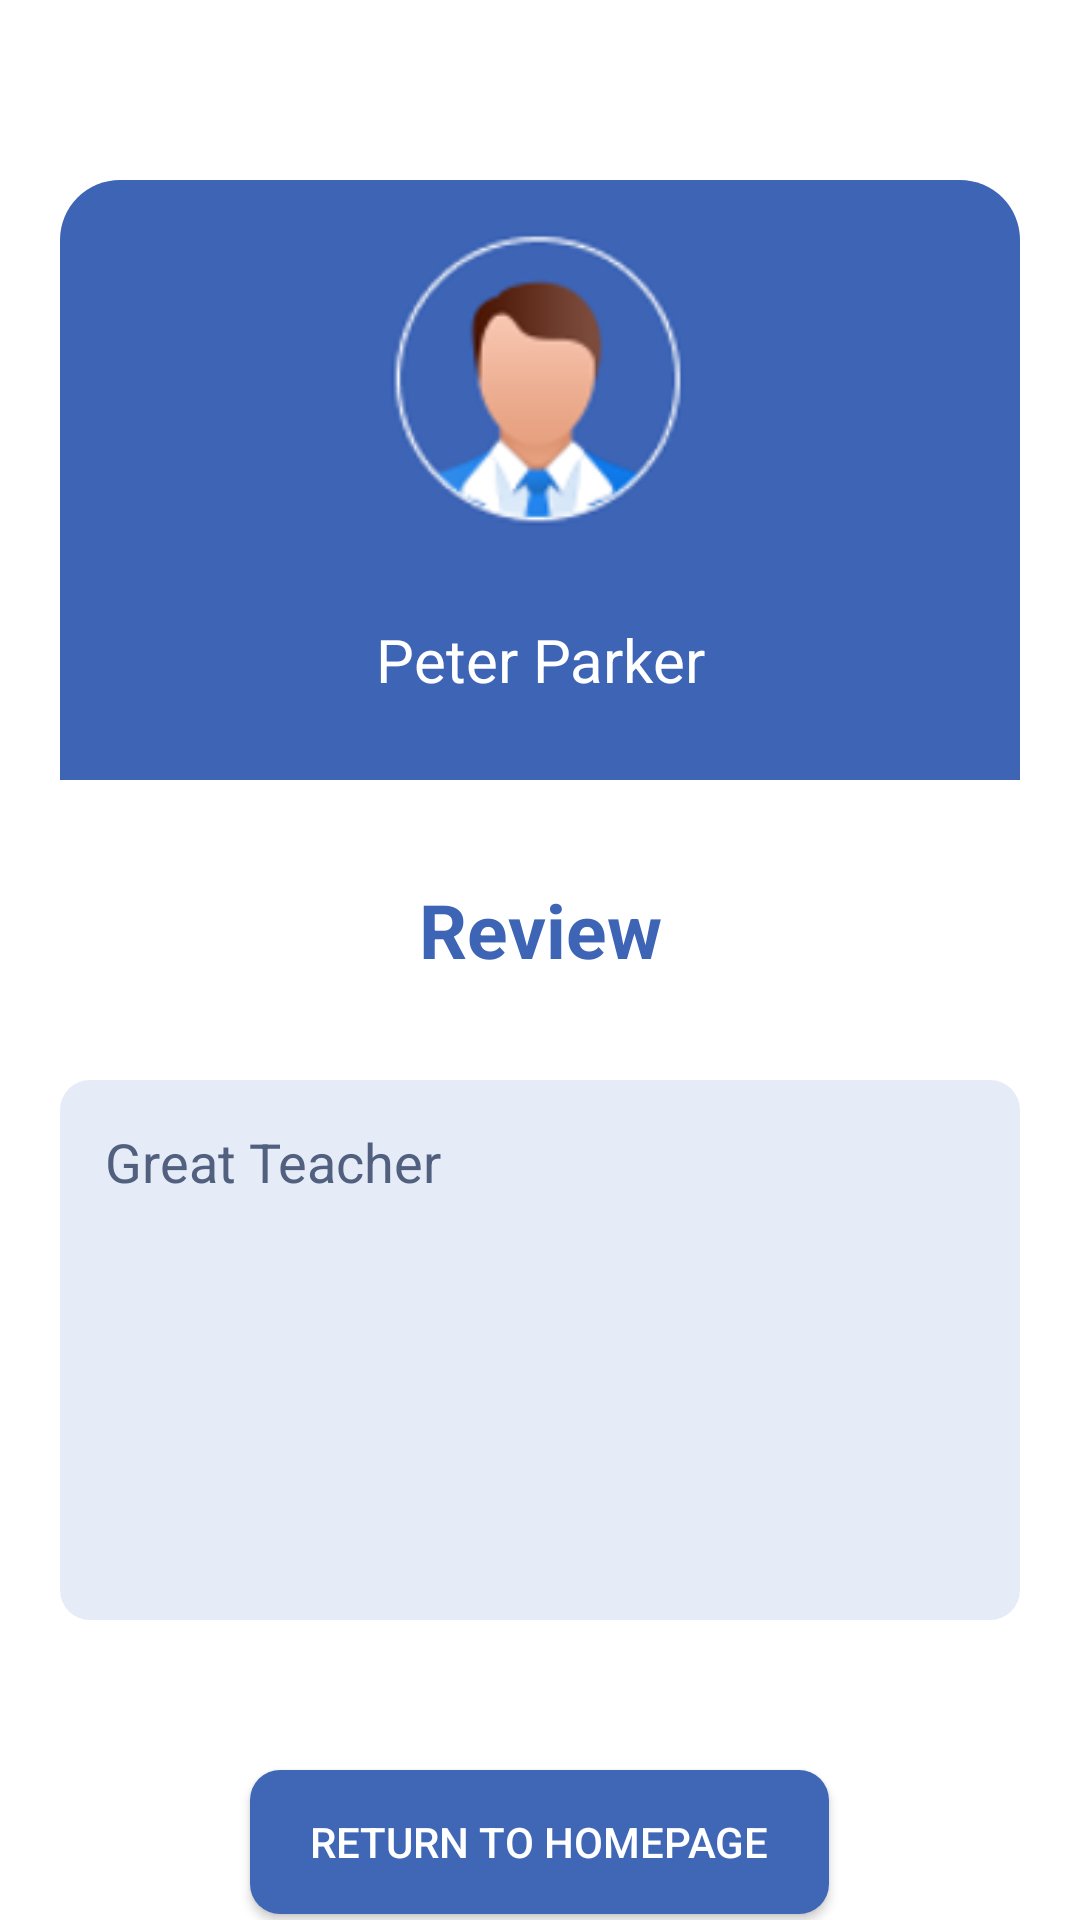

Where icons sit on this 1080×1920 app screen, as [x1=x1, y1=y1, x2=x2, y2=y2]:
teacher: [x1=394, y1=236, x2=681, y2=523]
